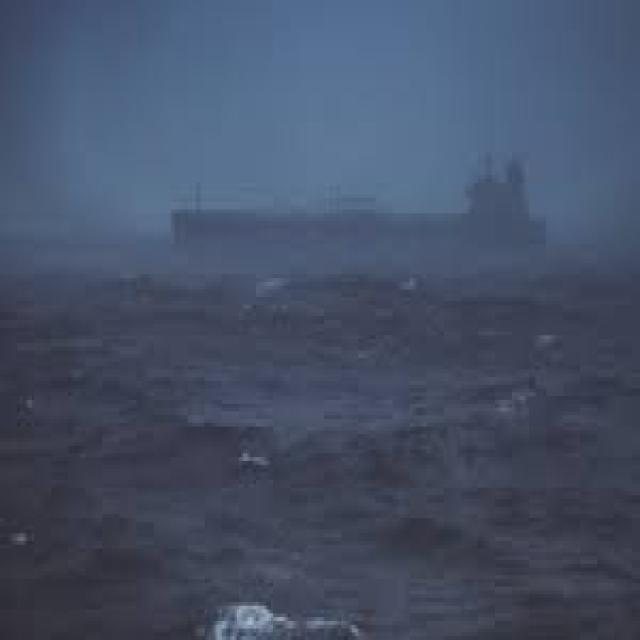cargoship: (167, 130, 540, 282)
